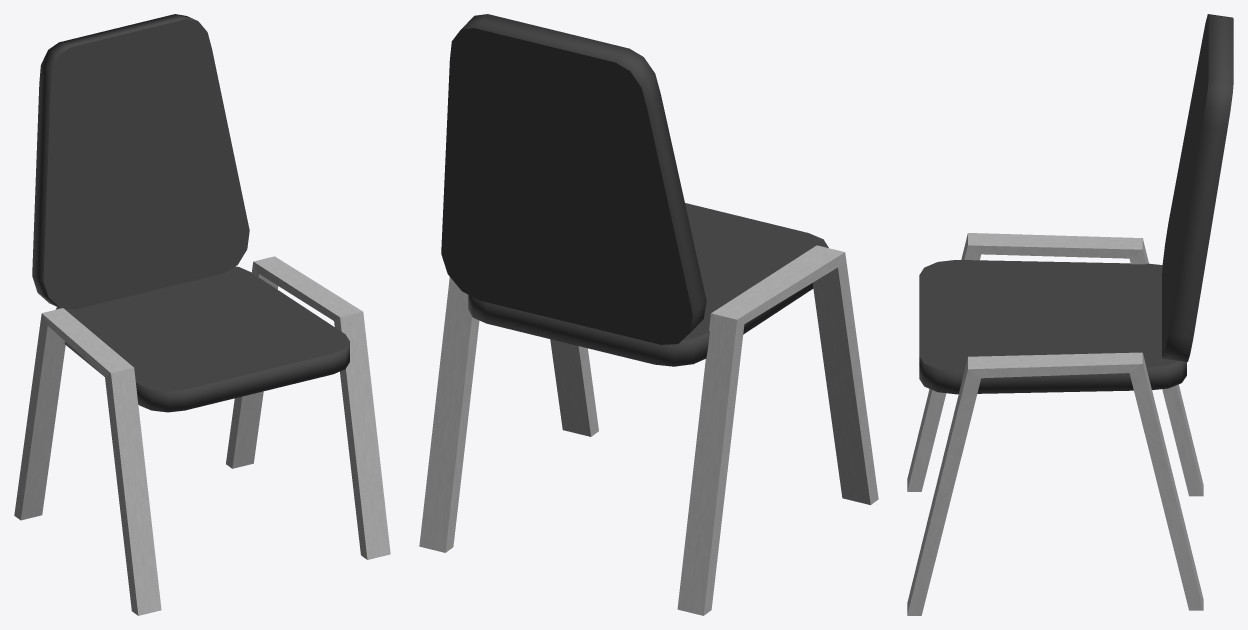
File: propChair.fbx
3 views of the same model, side by side, from view 1: azimuth 30°, elevation 25°; view 2: azimuth 150°, elevation 25°; view 3: azimuth 270°, elevation 25° (orthographic). The views are drawn at different scales.
Visible parts, largest first — view 1: propChair; view 2: propChair; view 3: propChair.
Boxes of the visible parts, x1,y1,x2,y2 form: propChair: (14, 14, 390, 615); propChair: (419, 14, 878, 615); propChair: (907, 14, 1233, 615).
Bounding box in the file's own units: 70.08 × 120 × 70.89.
Materials: 2 (1 with a texture image).
